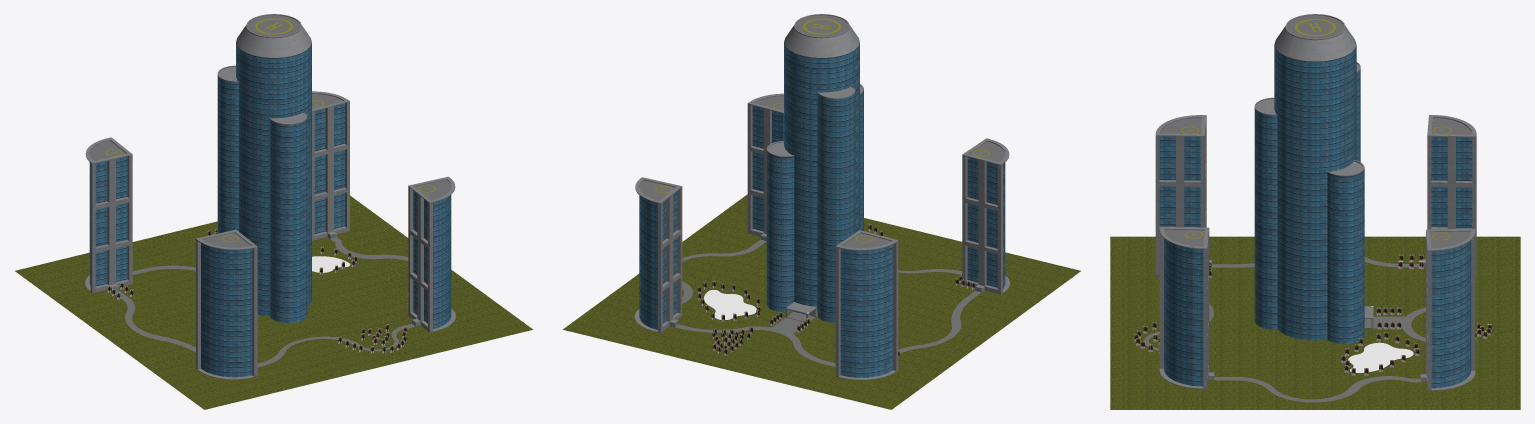
The model's file is hochhaus_verschmutzt.fbx.
The picture shows the model from 3 angles, left to right: view 1: azimuth 30°, elevation 25°; view 2: azimuth 150°, elevation 25°; view 3: azimuth 270°, elevation 25°; orthographic projection. The views are drawn at different scales.
Parts seen in each view (by area): view 1: hochhaus_verschmutzt1; view 2: hochhaus_verschmutzt1; view 3: hochhaus_verschmutzt1.
Part boxes in pixels (box(x1,y1,x2,y2)): hochhaus_verschmutzt1: box(15, 14, 532, 409); hochhaus_verschmutzt1: box(563, 14, 1080, 409); hochhaus_verschmutzt1: box(1110, 14, 1520, 409).
Size of the model in its own units: 200 by 160 by 200.
